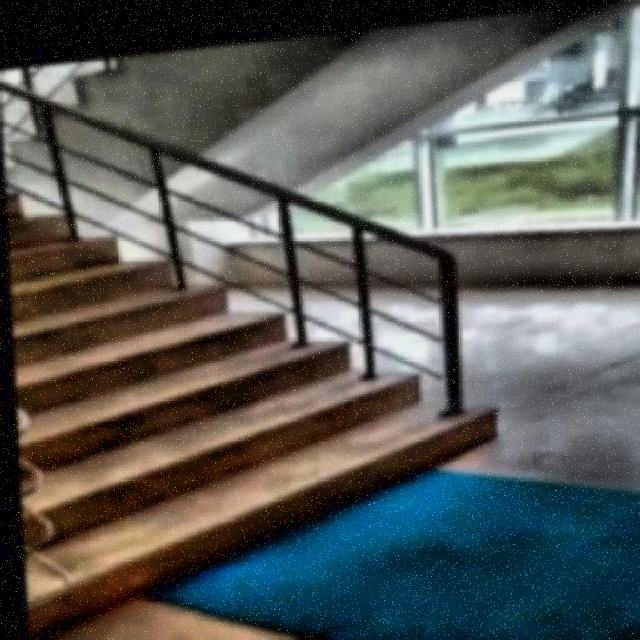stair: (3, 54, 546, 631)
